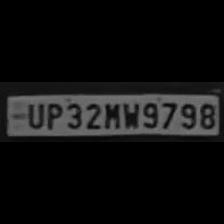2: (82, 100, 102, 128)
3: (62, 100, 82, 128)
7: (158, 99, 176, 129)
8: (196, 99, 216, 129)
9: (176, 99, 198, 129), (138, 100, 158, 128)
M: (102, 100, 120, 128)
P: (43, 100, 62, 130)
U: (23, 100, 43, 128)
W: (120, 100, 140, 128)
